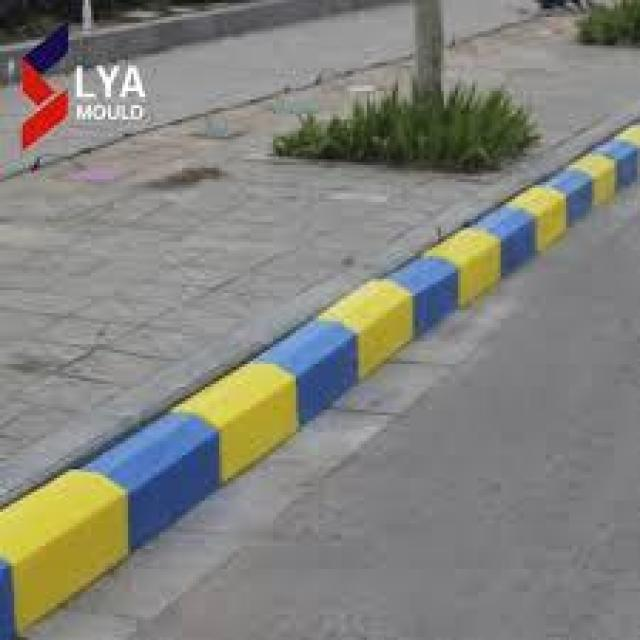curb: (2, 377, 273, 640), (258, 251, 438, 428), (517, 123, 640, 217), (425, 230, 511, 311), (488, 202, 618, 247)
